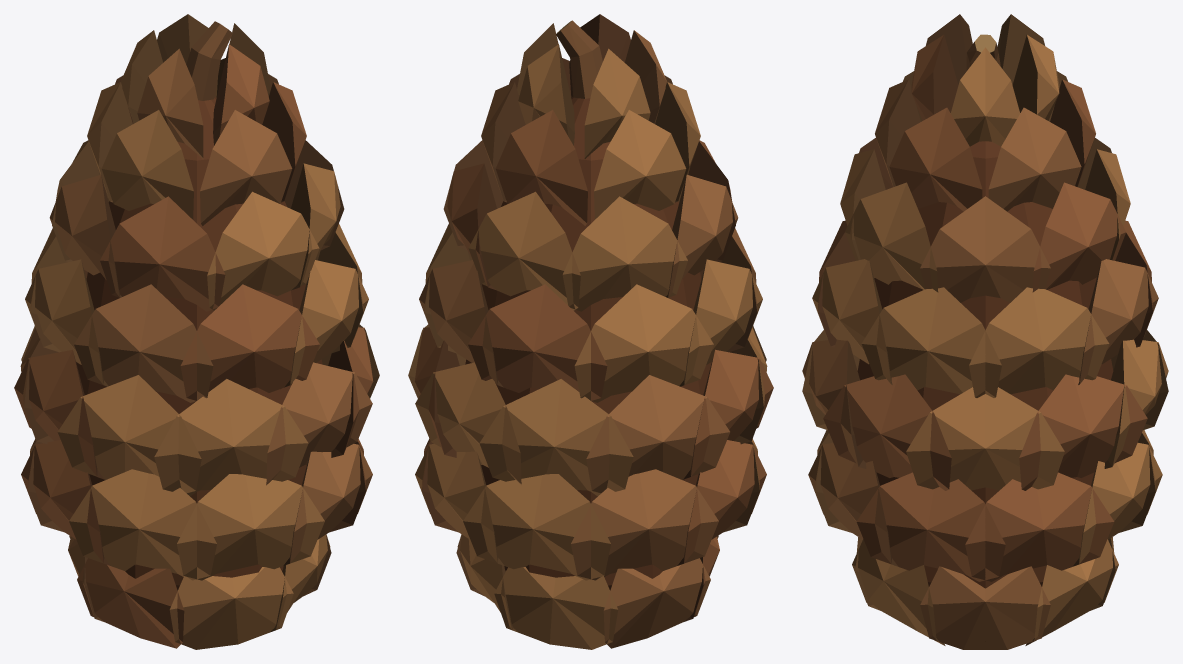
The model's file is Pine_Cone.glb.
3 views of the same model, side by side, from view 1: azimuth 30°, elevation 25°; view 2: azimuth 150°, elevation 25°; view 3: azimuth 270°, elevation 25° (orthographic).
Parts seen in each view (by area): view 1: Pine_Cone; view 2: Pine_Cone; view 3: Pine_Cone.
Part boxes in pixels (x1=…): Pine_Cone: x1=14, y1=14, x2=379, y2=649; Pine_Cone: x1=408, y1=14, x2=773, y2=649; Pine_Cone: x1=802, y1=14, x2=1168, y2=649.
Size of the model in its own units: 0.7775 by 1.45 by 0.7841.
